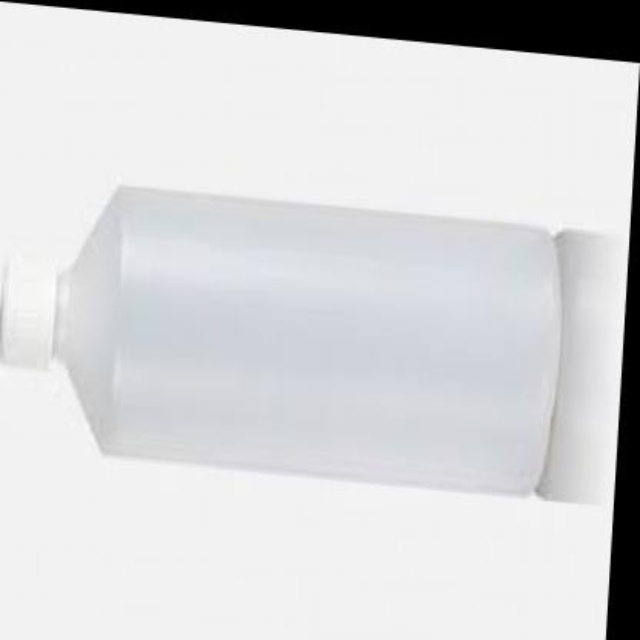trash: (55, 186, 622, 502), (57, 186, 558, 492)
